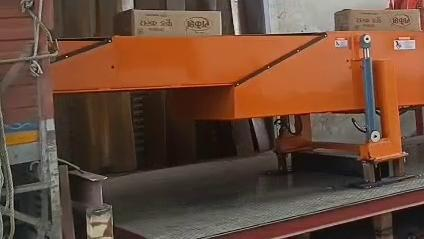box: (114, 9, 221, 35), (335, 9, 419, 30)
